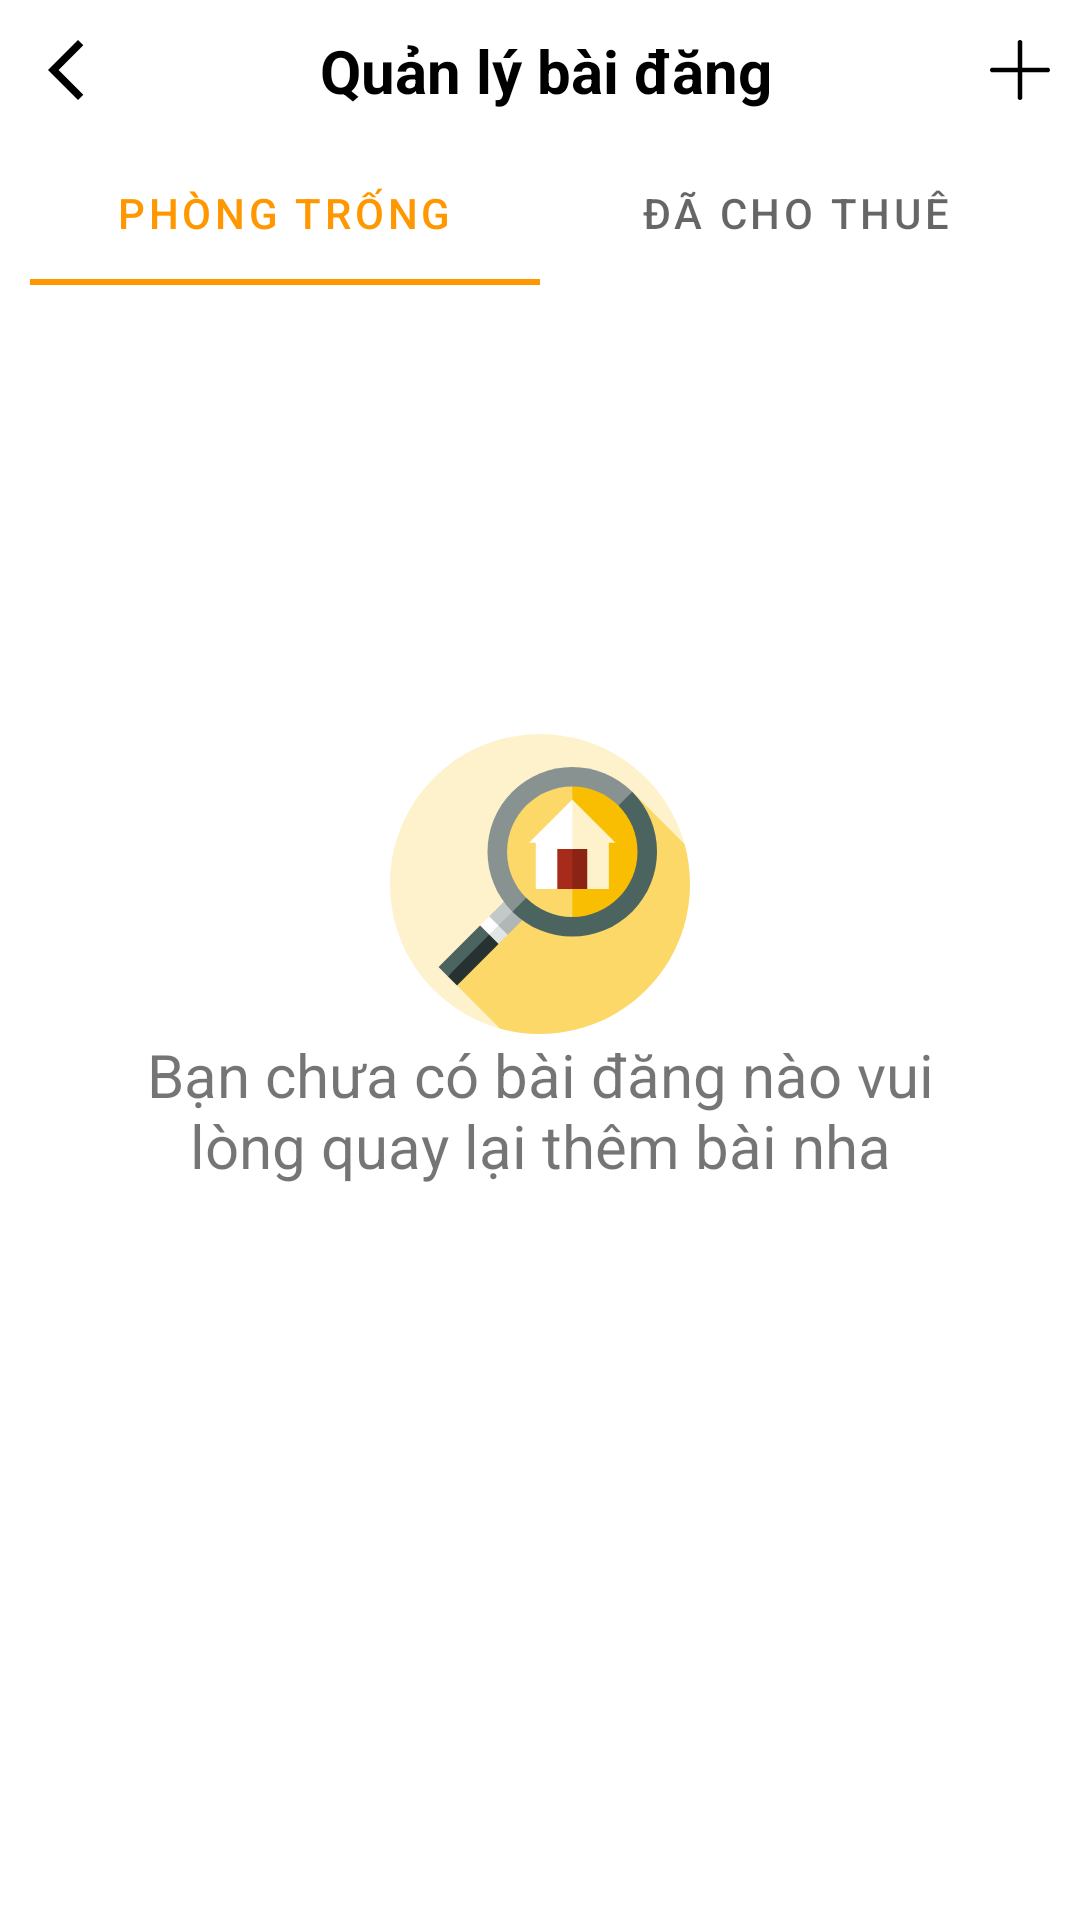

Screen size 1080 × 1920. Icon name, then its box in pixels as bbox=(x1, y1, x2, y2):
back: bbox=(48, 40, 83, 100)
nohouse: bbox=(390, 734, 690, 1034)
plus: bbox=(990, 40, 1050, 100)
